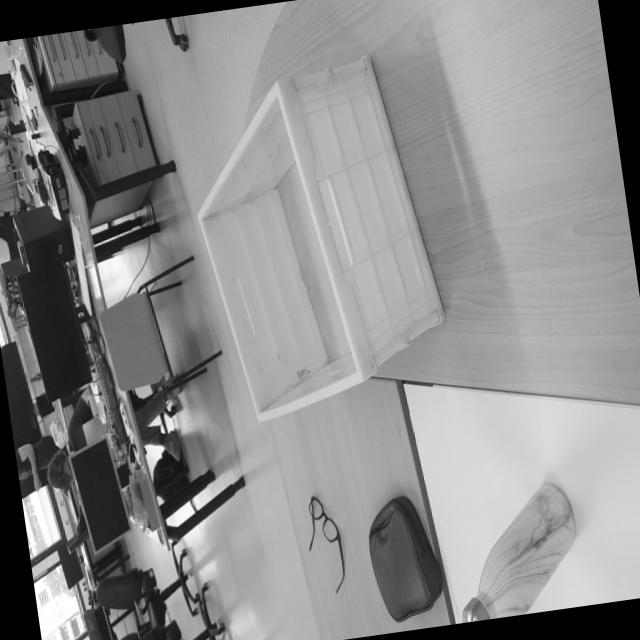box: (168, 33, 462, 436)
